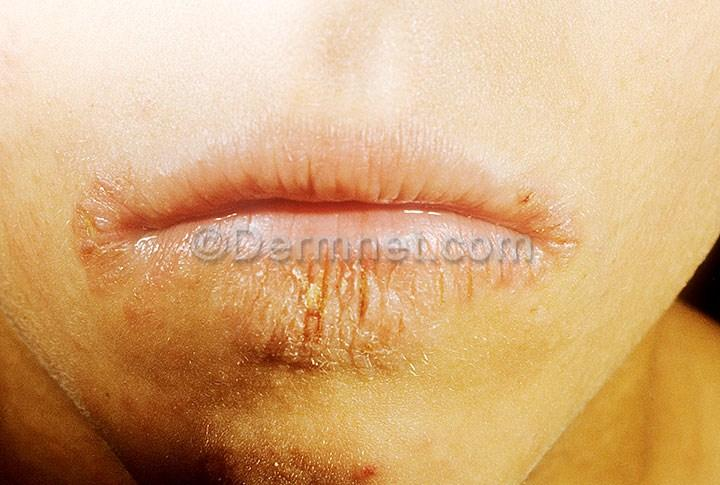Eczema: (52, 268, 245, 449), (244, 274, 452, 436), (516, 102, 625, 221), (453, 263, 564, 356), (382, 94, 489, 185), (153, 118, 265, 195), (199, 437, 372, 485), (276, 104, 384, 177), (53, 184, 144, 260)
